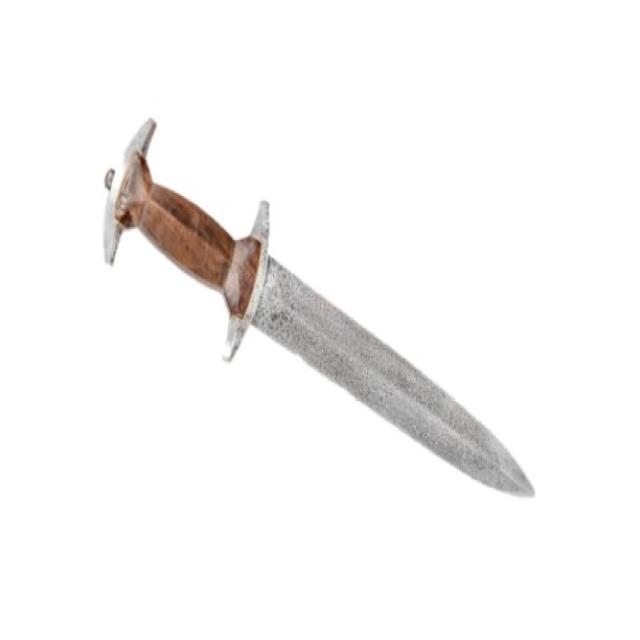knife: (91, 106, 543, 505)
